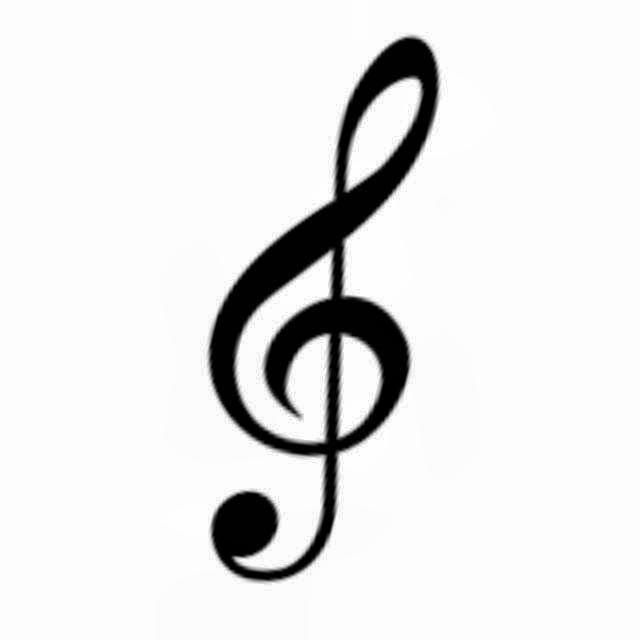Treble-clef: (151, 27, 469, 586)
